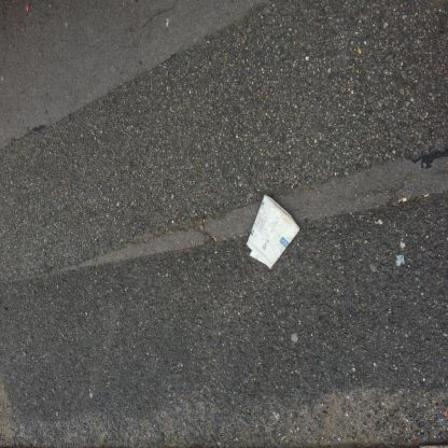Cup: (248, 196, 302, 270)
